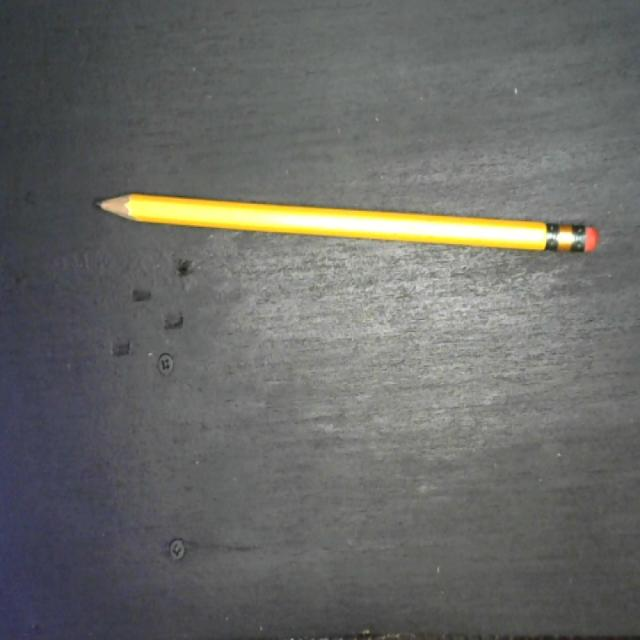biodegradable: (92, 186, 599, 256)
